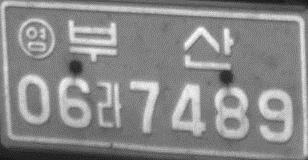0: (16, 73, 50, 126)
4: (170, 83, 207, 136)
6: (57, 75, 92, 129)
7: (128, 79, 160, 134)
8: (213, 86, 249, 140)
9: (256, 87, 294, 143)
라: (95, 79, 122, 128)
부산_D: (67, 19, 235, 70)
영: (17, 17, 55, 59)
